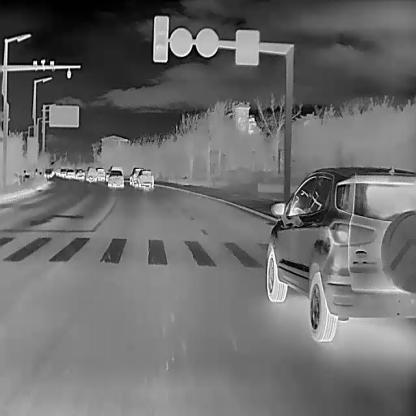car: (266, 165, 415, 340), (137, 169, 154, 187), (108, 169, 124, 188), (128, 166, 143, 184), (85, 166, 96, 180), (75, 168, 86, 181), (95, 167, 105, 181), (66, 167, 74, 177), (59, 168, 66, 177)
